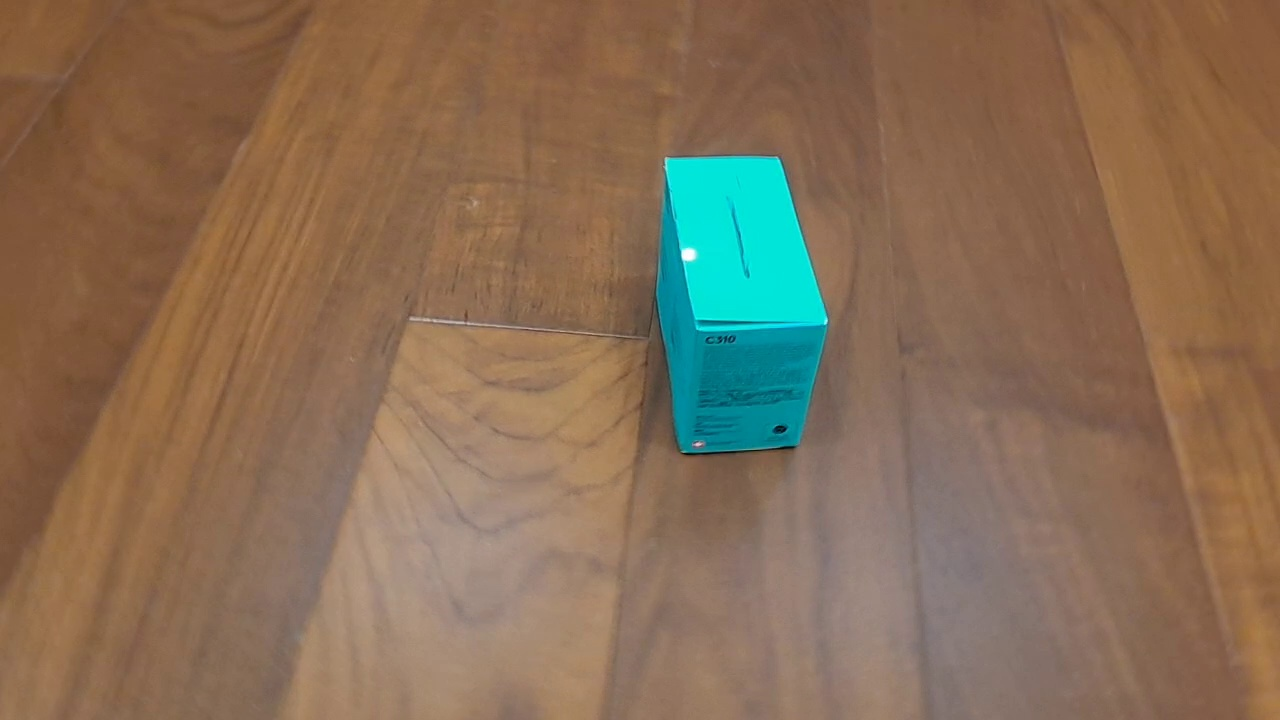webcam: (654, 154, 830, 457)
